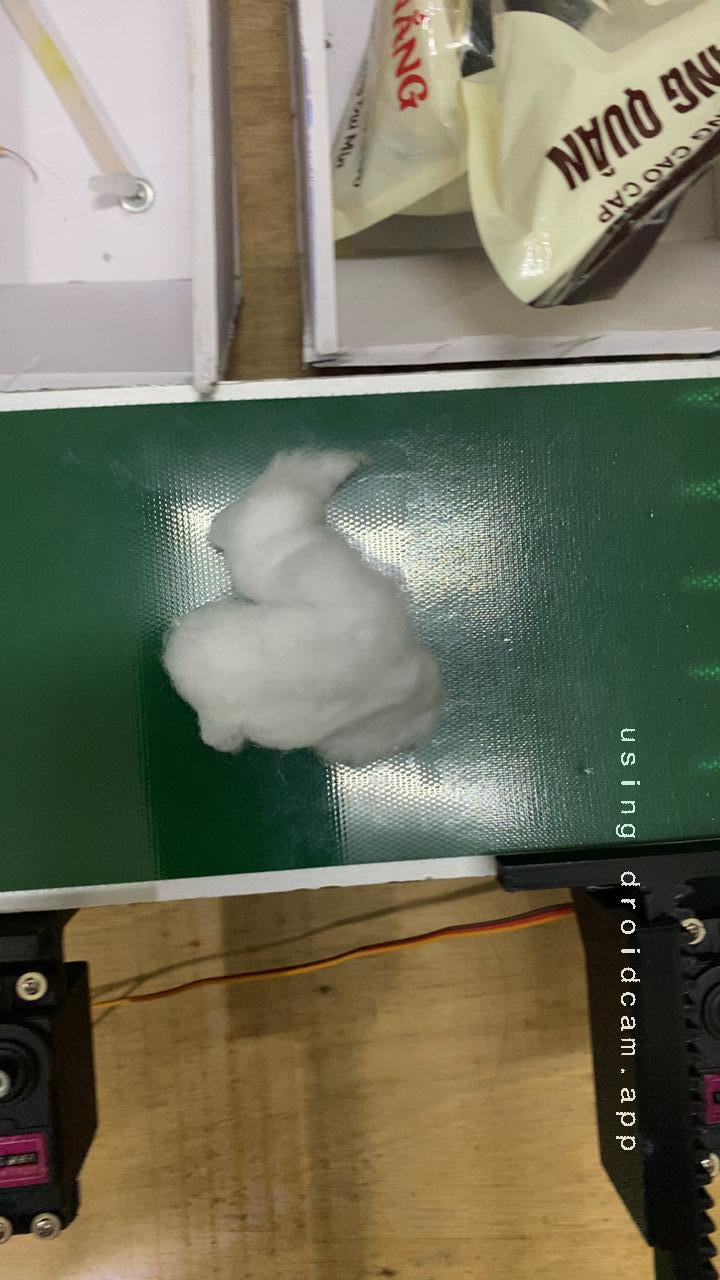cotton: (126, 418, 465, 783)
